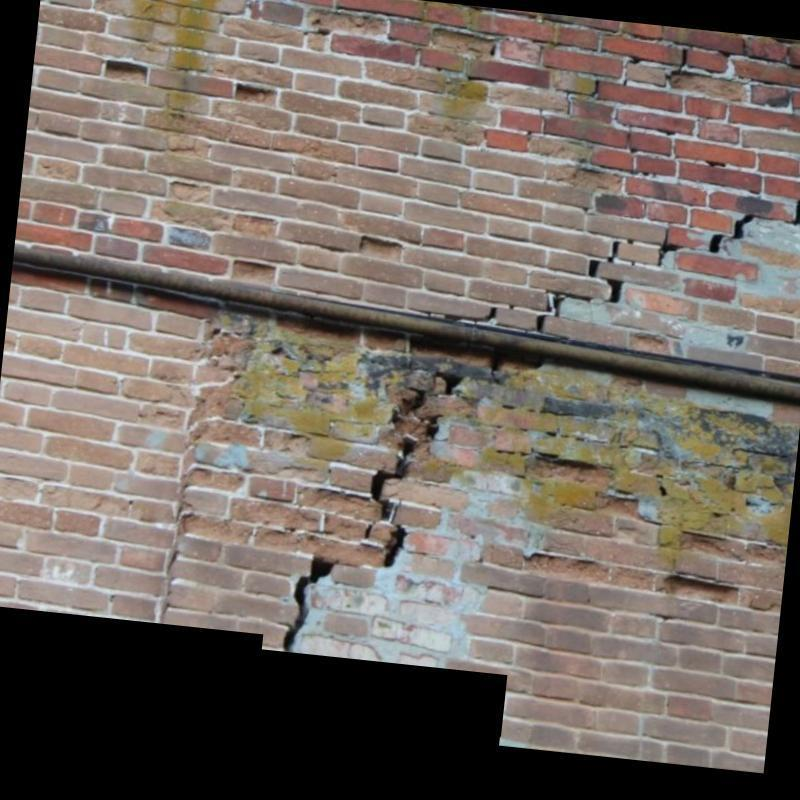pothole: (283, 556, 338, 653), (544, 288, 592, 318), (371, 471, 401, 519), (382, 522, 408, 567), (730, 213, 773, 240), (657, 228, 684, 265), (599, 275, 625, 304), (436, 371, 463, 395), (783, 198, 800, 224), (707, 233, 724, 253), (606, 240, 620, 263), (532, 313, 547, 332), (587, 259, 601, 278), (484, 306, 495, 321), (545, 296, 552, 311)
